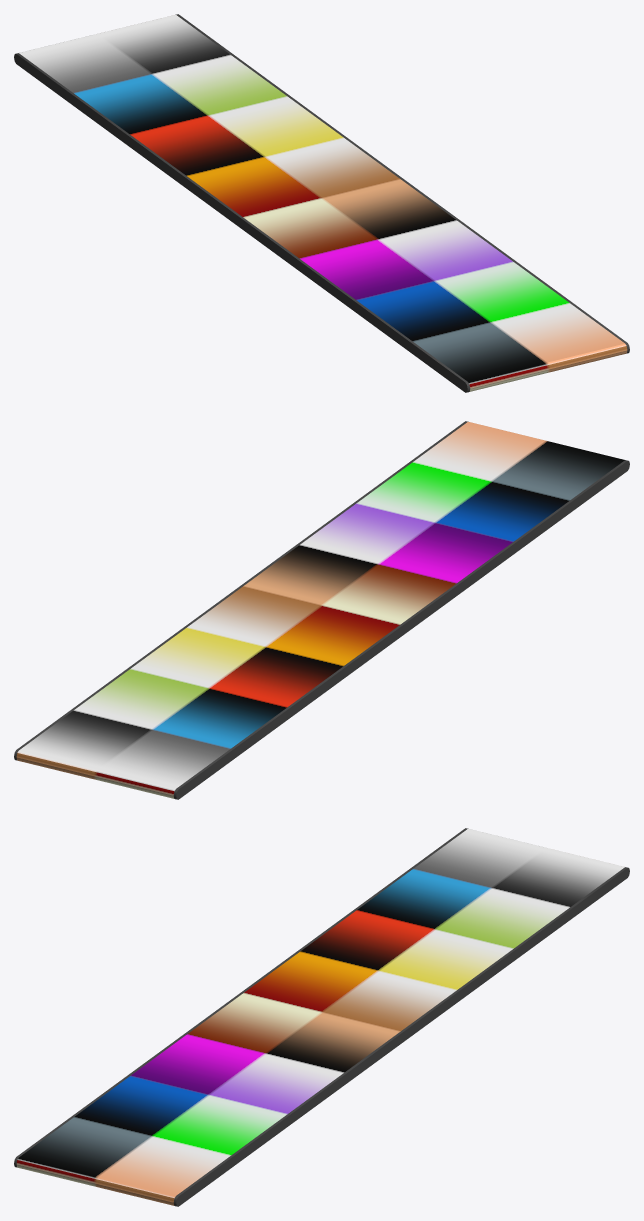
File: conveyor40m.glb
3 renders of one model, top to bottom at view 1: azimuth 30°, elevation 25°; view 2: azimuth 150°, elevation 25°; view 3: azimuth 330°, elevation 25°, orthographic.
Parts seen in each view (by area): view 1: conveyor; view 2: conveyor; view 3: conveyor.
Part boxes in pixels (box(x1,y1,x2,y2)): conveyor: box(14, 14, 629, 392); conveyor: box(14, 421, 629, 799); conveyor: box(14, 828, 629, 1206).
Bounding box in the file's own units: 8.26 × 0.5 × 40.
2 materials, 1 textured.
